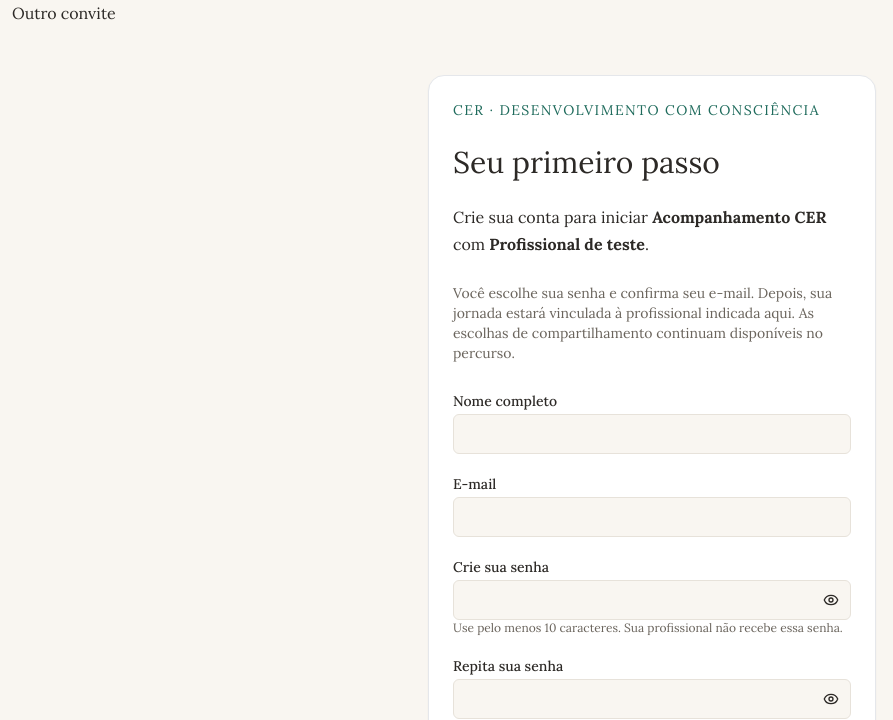
Scenario: trocar de convite descarta o formulário e ignora confirmação atrasada do anterior
Type "Pessoa de Teste" into the field labelled "Nome completo".
click(652, 434); type("Pessoa de Teste")  # box 453,414 -> 851,454
Type "pessoa@example.invalid" into the field labelled "E-mail".
click(652, 517); type("pessoa@example.invalid")  # box 453,497 -> 851,537
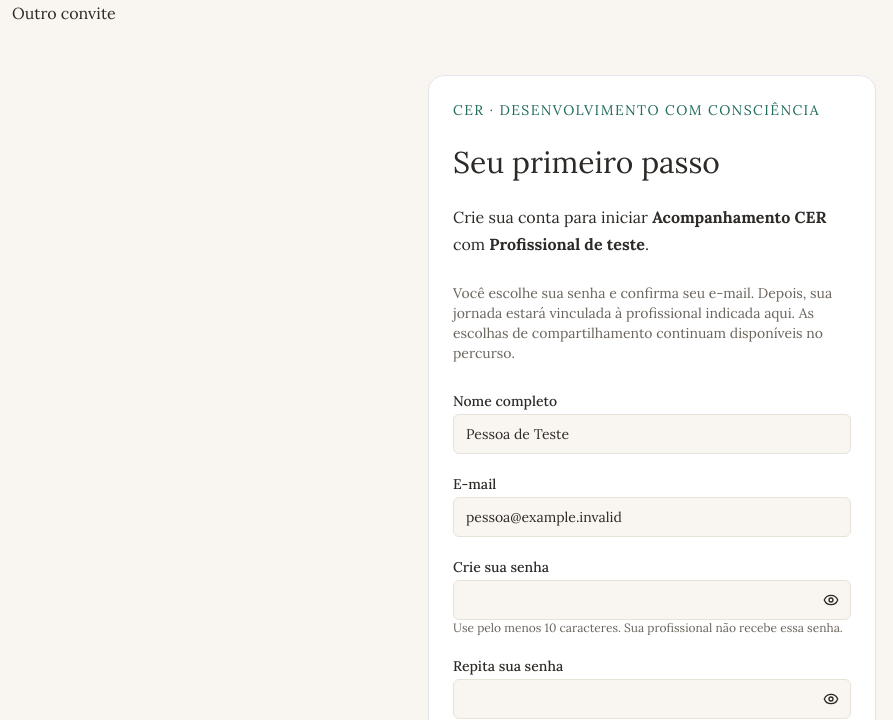
Type "Fixture-only-123" into the password field labelled "Crie sua senha".
click(652, 600); type("Fixture-only-123")  # box 453,580 -> 851,620
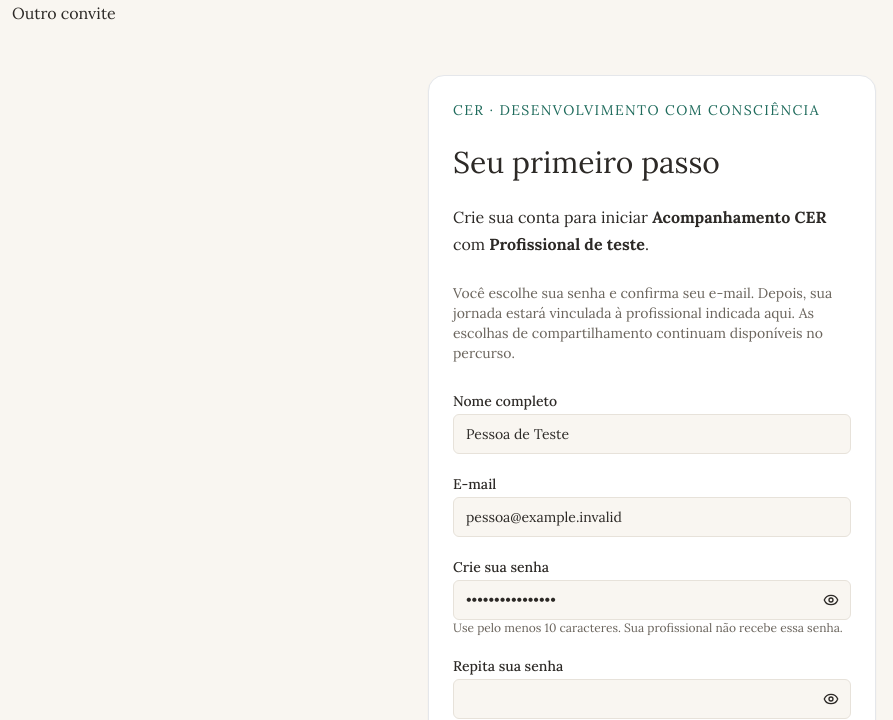
Type "Fixture-only-123" into the password field labelled "Repita sua senha".
click(652, 699); type("Fixture-only-123")  # box 453,679 -> 851,719
(page scrolled)
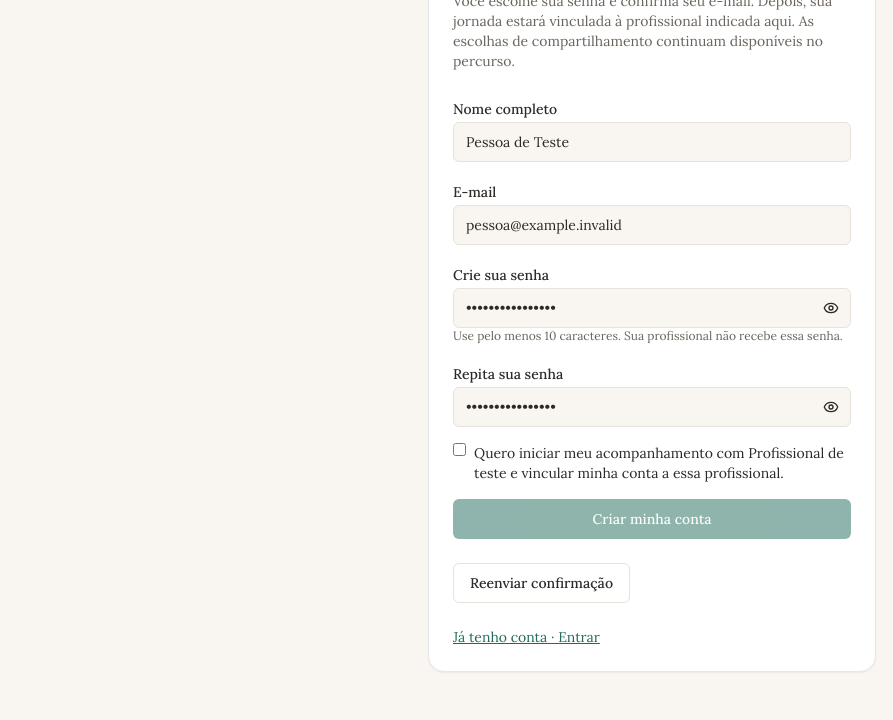
Click the checkbox.
click(460, 450)  # box 453,443 -> 466,456
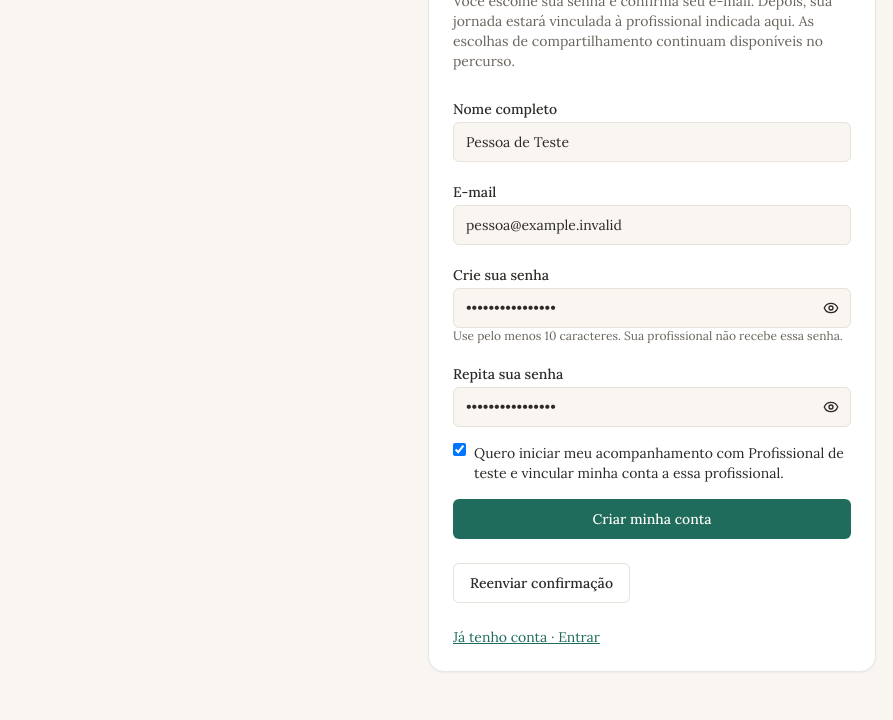
Submit the form named "Criar minha conta", box 453,95 -> 851,539
(page scrolled)
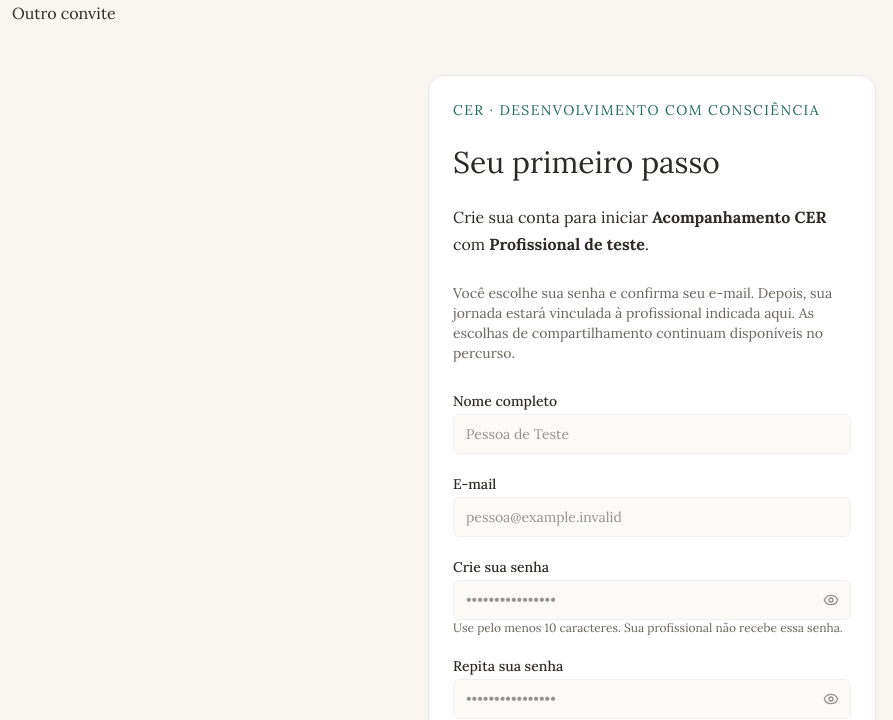
Click the link "Outro convite".
click(64, 13)  # box 12,3 -> 116,23
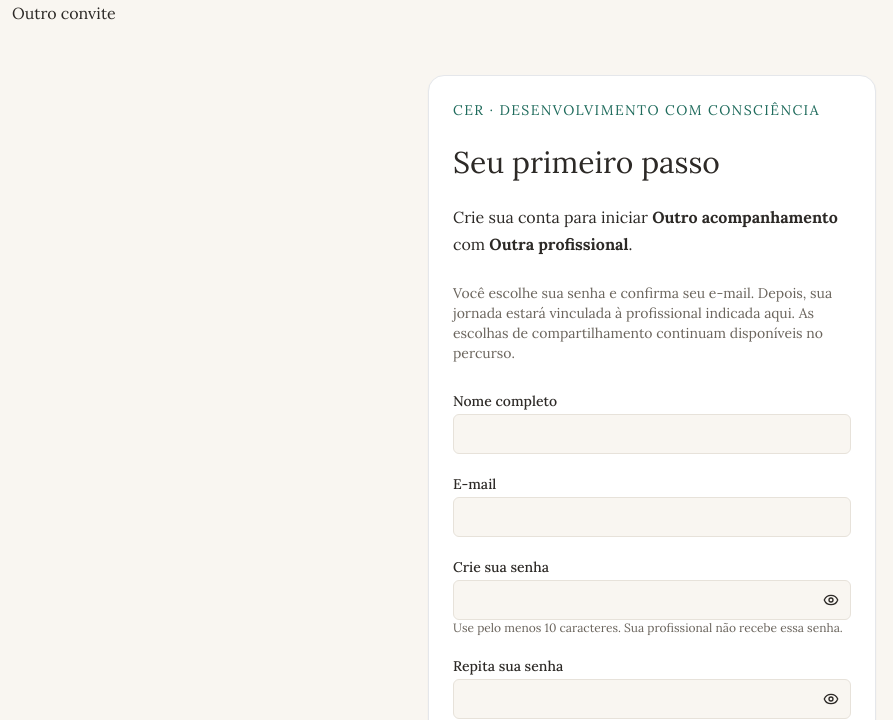
expect the text "Outra profissional" is shown: met, box 489,234 -> 628,254
expect the field labelled "Nome completo" is empty: met, box 453,414 -> 851,454
expect the password field labelled "Crie sua senha" is empty: met, box 453,580 -> 851,620
